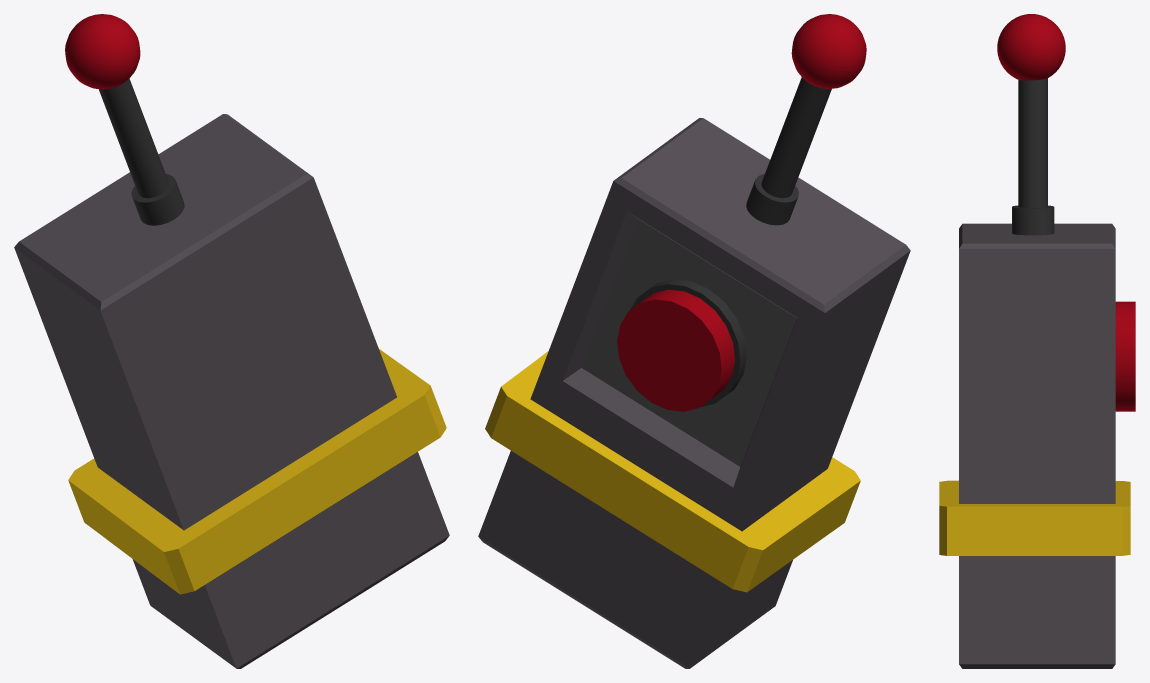
The model's file is Detonator.fbx.
3 renders of one model, left to right at view 1: azimuth 30°, elevation 25°; view 2: azimuth 150°, elevation 25°; view 3: azimuth 270°, elevation 25°, orthographic. The views are drawn at different scales.
Parts seen in each view (by area): view 1: pCube10, pSphere2, pCylinder9, pCylinder10; view 2: pCube10, pCylinder8, pSphere2, pCylinder9, pCylinder11, pCylinder10; view 3: pCube10, pCylinder9, pSphere2, pCylinder8, pCylinder10.
Part boxes in pixels (bbox=[...]): pCube10: bbox=[14, 114, 449, 668]; pSphere2: bbox=[65, 14, 140, 89]; pCylinder9: bbox=[99, 78, 169, 198]; pCylinder10: bbox=[131, 174, 184, 225]; pCube10: bbox=[478, 118, 910, 668]; pCylinder8: bbox=[617, 289, 734, 411]; pSphere2: bbox=[791, 14, 866, 88]; pCylinder9: bbox=[761, 77, 831, 198]; pCylinder11: bbox=[629, 279, 746, 407]; pCylinder10: bbox=[746, 174, 798, 225]; pCube10: bbox=[939, 223, 1130, 668]; pCylinder9: bbox=[1018, 78, 1047, 207]; pSphere2: bbox=[997, 14, 1065, 80]; pCylinder8: bbox=[1115, 301, 1135, 411]; pCylinder10: bbox=[1012, 205, 1054, 235].
Size of the model in its own units: 2.45 by 4.33 by 1.31.
